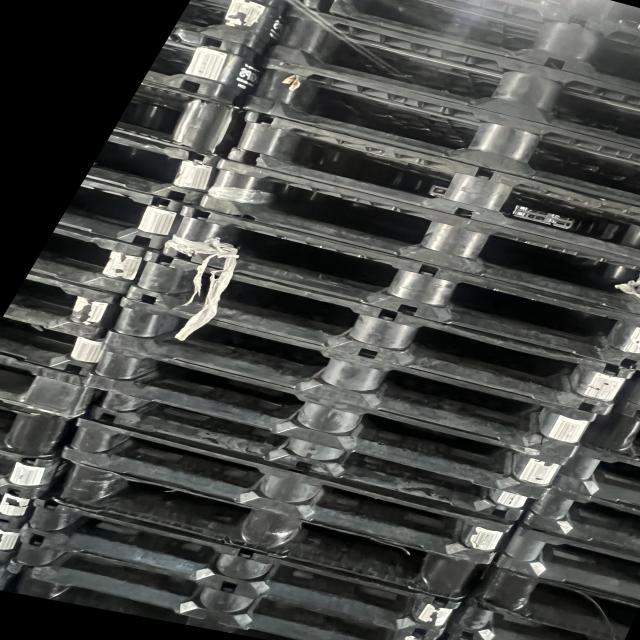igps: (120, 244, 640, 422), (77, 326, 573, 504), (156, 197, 640, 375), (98, 294, 601, 462), (192, 154, 640, 320), (56, 413, 519, 568), (10, 489, 465, 639), (47, 449, 481, 605), (219, 107, 640, 267), (230, 54, 640, 215), (84, 384, 535, 527), (256, 2, 640, 153), (0, 515, 453, 640), (322, 0, 640, 94), (10, 560, 374, 640), (456, 552, 640, 640), (486, 515, 640, 606), (110, 78, 250, 162), (82, 128, 226, 208), (54, 174, 194, 255), (139, 25, 272, 110), (417, 0, 640, 50), (512, 481, 640, 562), (27, 222, 152, 300), (0, 268, 130, 342), (433, 592, 631, 640), (0, 349, 110, 422), (0, 311, 109, 379), (540, 442, 640, 512), (172, 0, 294, 57), (0, 396, 92, 468), (571, 391, 640, 464), (0, 516, 25, 569)
